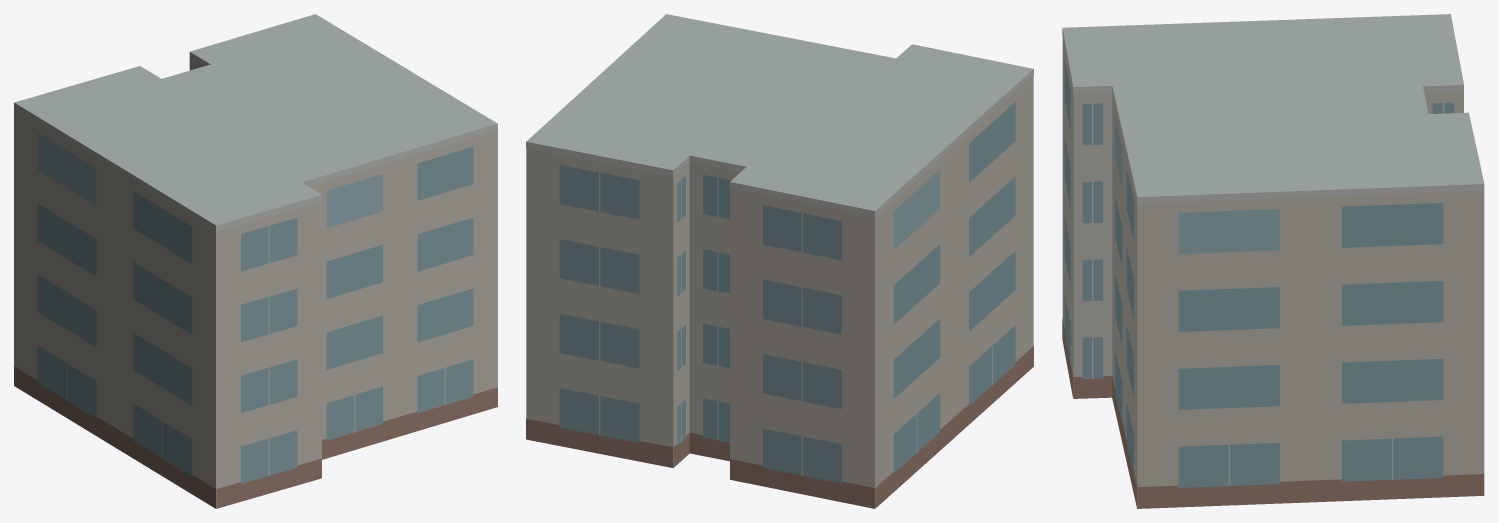
File: survey-upis-32731938.glb
3 renders of one model, left to right at view 1: azimuth 30°, elevation 25°; view 2: azimuth 150°, elevation 25°; view 3: azimuth 270°, elevation 25°, orthographic. The views are drawn at different scales.
Visible parts, largest first — view 1: survey-upis-32731938.tmp; view 2: survey-upis-32731938.tmp; view 3: survey-upis-32731938.tmp.
Part boxes in pixels (left/top/right/bottom): survey-upis-32731938.tmp: left=14, top=14, right=497, bottom=508; survey-upis-32731938.tmp: left=526, top=14, right=1033, bottom=508; survey-upis-32731938.tmp: left=1062, top=14, right=1484, bottom=508.
Bounding box in the file's own units: 14.75 × 11.7 × 14.37.
